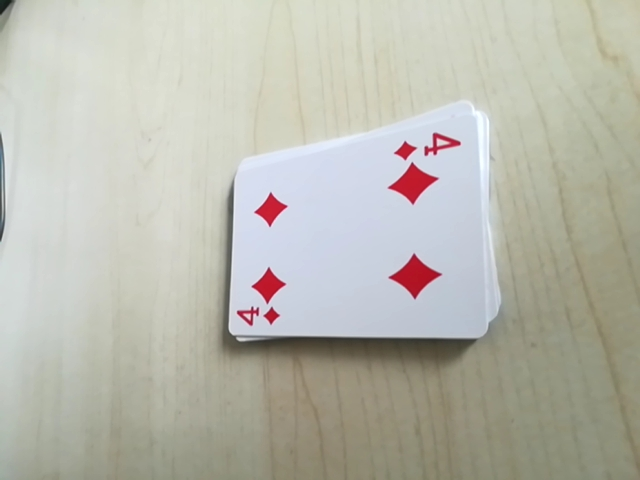fk 4: (393, 123, 465, 164), (232, 301, 284, 332)
